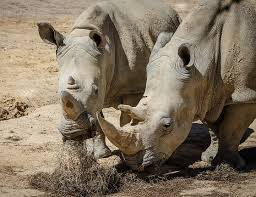Rhinoceros: (100, 2, 255, 177)
